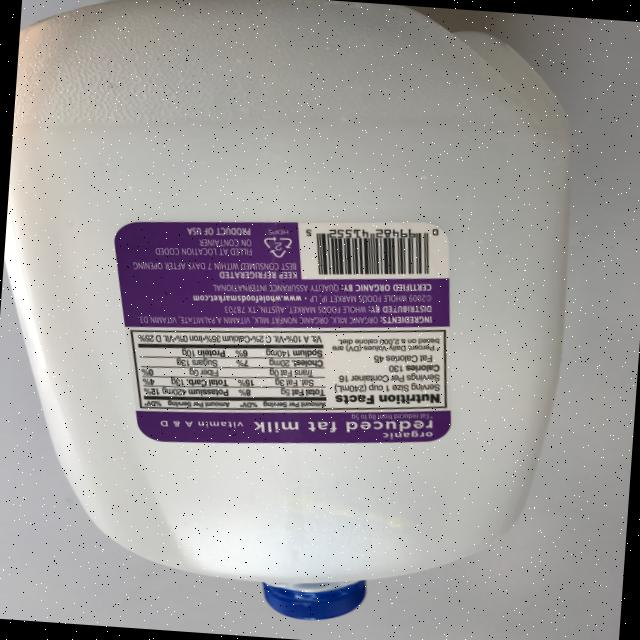plastic: (0, 0, 586, 627)
